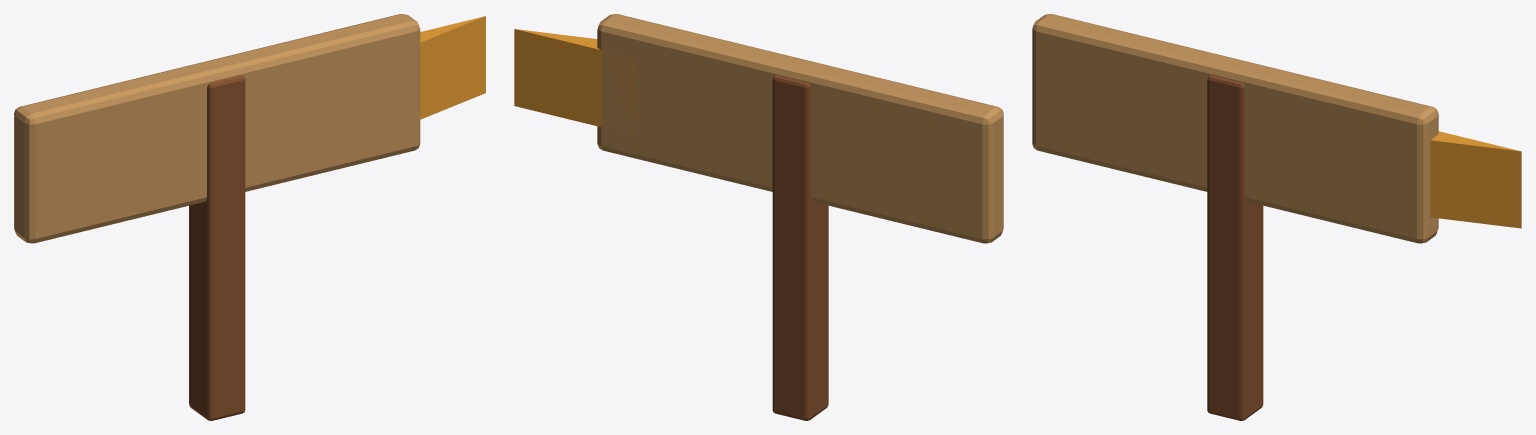
File: ENV_Greenwood_Sign_V1.glb
The picture shows the model from 3 angles, left to right: view 1: azimuth 30°, elevation 25°; view 2: azimuth 150°, elevation 25°; view 3: azimuth 330°, elevation 25°; orthographic projection.
Parts seen in each view (by area): view 1: Signboard, Post, Arrow; view 2: Signboard, Post, Arrow; view 3: Signboard, Post, Arrow.
Part boxes in pixels (box(x1,y1,x2,y2)): Signboard: box(14, 14, 420, 243); Post: box(189, 75, 245, 420); Arrow: box(420, 16, 485, 119); Signboard: box(597, 14, 1003, 243); Post: box(772, 75, 828, 420); Arrow: box(514, 29, 637, 135); Signboard: box(1032, 14, 1438, 243); Post: box(1207, 75, 1263, 420); Arrow: box(1430, 131, 1521, 228).
Size of the model in its own units: 5.29 by 3.69 by 0.42.
